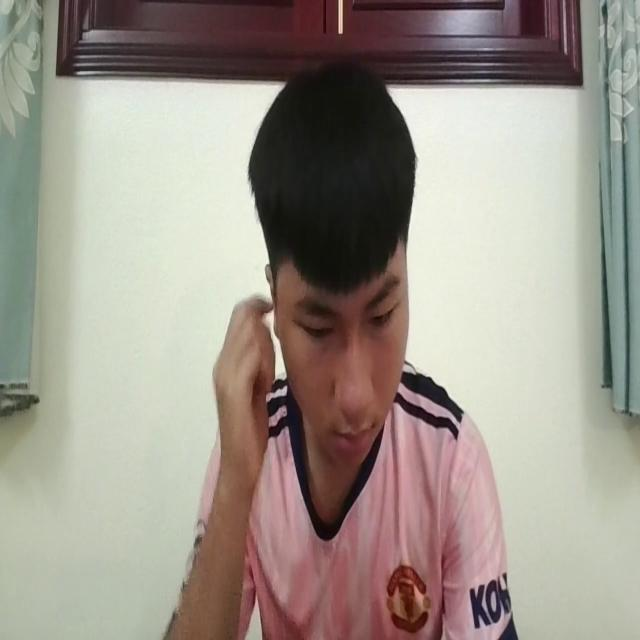student: (151, 59, 514, 640)
